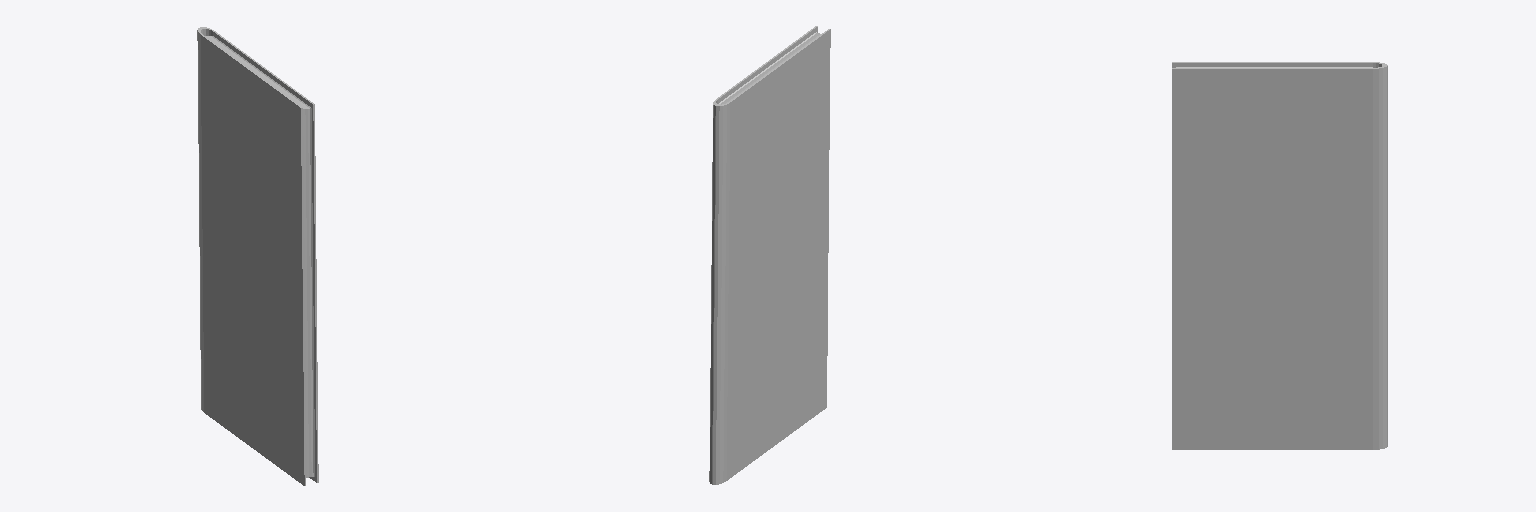
Rendered from SetA_Book_Style_03.obj.
3 views of the same model, side by side, from view 1: azimuth 30°, elevation 25°; view 2: azimuth 150°, elevation 25°; view 3: azimuth 270°, elevation 25° (orthographic).
Visible parts, largest first — view 1: SetA_Book_Style_03; view 2: SetA_Book_Style_03; view 3: SetA_Book_Style_03.
Part boxes in pixels (x1,y1,x2,y2): SetA_Book_Style_03: (197,27,318,485); SetA_Book_Style_03: (709,26,830,484); SetA_Book_Style_03: (1172,62,1387,449).
Bounding box in the file's own units: 0.013 × 0.2659 × 0.1366.